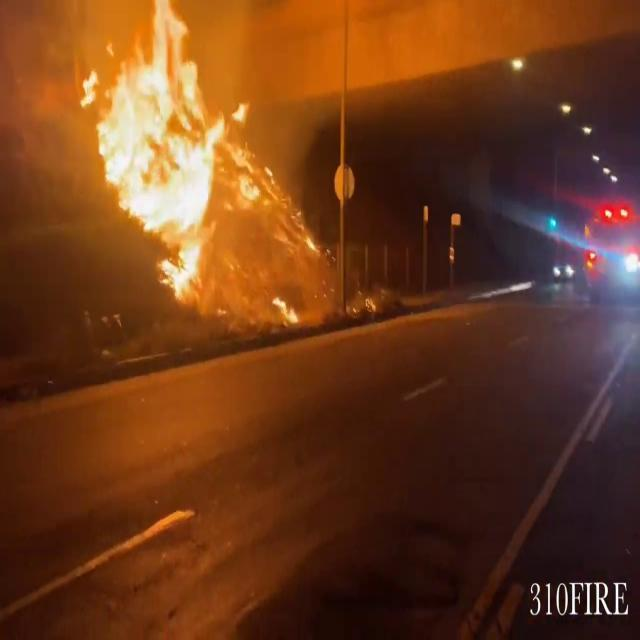Fire: (72, 1, 245, 300)
